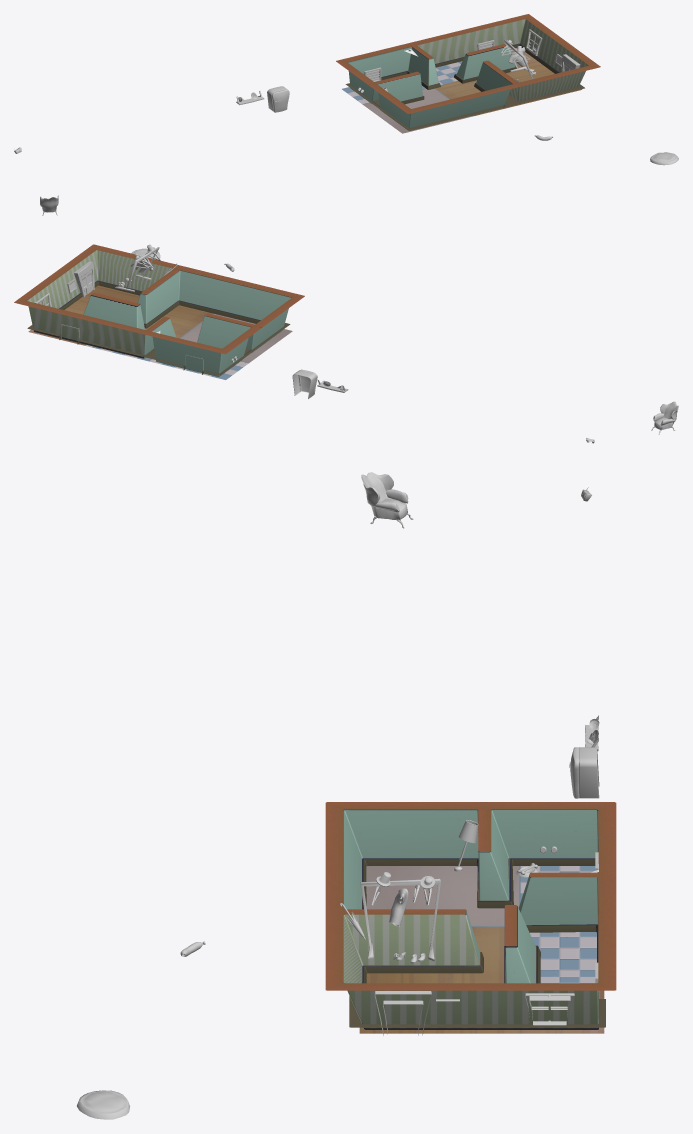
The model's file is scen_level_2111111111111.fbx.
The picture shows the model from 3 angles, top to bottom: view 1: azimuth 30°, elevation 25°; view 2: azimuth 150°, elevation 25°; view 3: azimuth 270°, elevation 25°; orthographic projection. The views are drawn at different scales.
Parts seen in each view (by area): view 1: room, pic, EPIC, props_Anton; view 2: room, pic, EPIC, props_Anton; view 3: room, pic, EPIC, props_Anton.
Boxes of the visible parts, left/top/right/bottom form: room: left=336, top=14, right=600, bottom=133; pic: left=236, top=29, right=678, bottom=165; EPIC: left=501, top=39, right=535, bottom=82; props_Anton: left=14, top=42, right=536, bottom=215; room: left=14, top=244, right=304, bottom=379; pic: left=35, top=248, right=348, bottom=398; EPIC: left=115, top=244, right=177, bottom=291; props_Anton: left=586, top=401, right=678, bottom=443; room: left=325, top=802, right=616, bottom=1033; pic: left=77, top=715, right=599, bottom=1119; EPIC: left=340, top=872, right=440, bottom=963; props_Anton: left=361, top=472, right=591, bottom=877.
Size of the model in its own units: 6709 by 917 by 2766.
